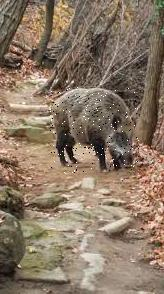Hog: (50, 88, 139, 175)
